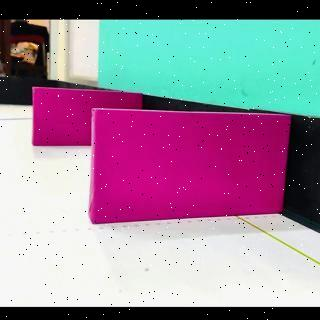xparking: (94, 109, 292, 223), (34, 90, 92, 147)
